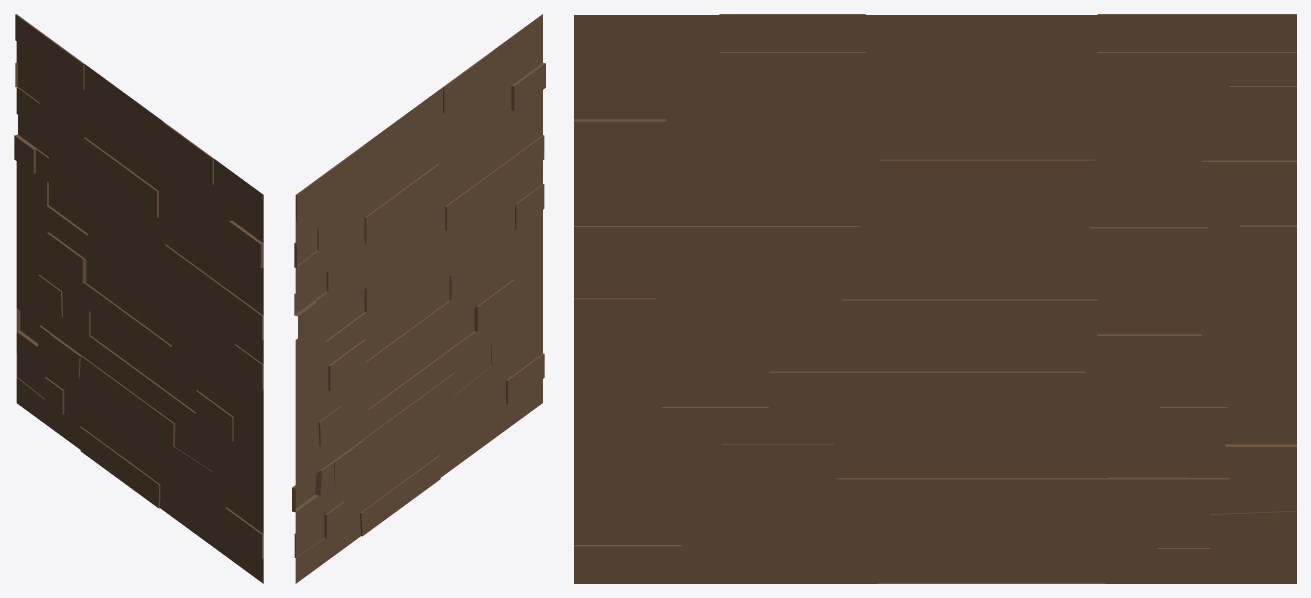
The model's file is Corridor_Wall_Short.fbx.
3 views of the same model, side by side, from view 1: azimuth 30°, elevation 25°; view 2: azimuth 150°, elevation 25°; view 3: azimuth 270°, elevation 25° (orthographic). The views are drawn at different scales.
Visible parts, largest first — view 1: Corridor_Wall; view 2: Corridor_Wall; view 3: Corridor_Wall.
Part boxes in pixels (bbox=[...]): Corridor_Wall: bbox=[14, 14, 263, 583]; Corridor_Wall: bbox=[292, 14, 545, 583]; Corridor_Wall: bbox=[574, 14, 1296, 583].
Size of the model in its own units: 4.57 by 248 by 286.
